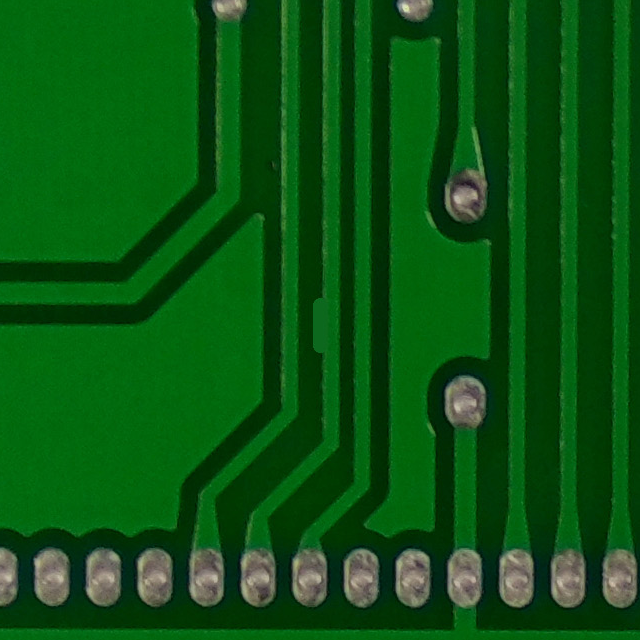spur: (297, 283, 344, 358), (589, 614, 640, 640)
